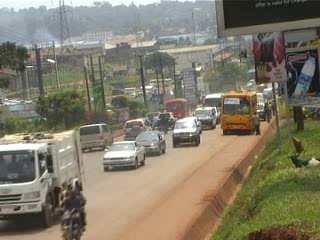Car: (100, 137, 147, 173), (133, 128, 167, 156), (121, 117, 152, 142), (157, 109, 177, 127)
Motorcycle: (58, 184, 90, 239), (155, 111, 170, 135)
